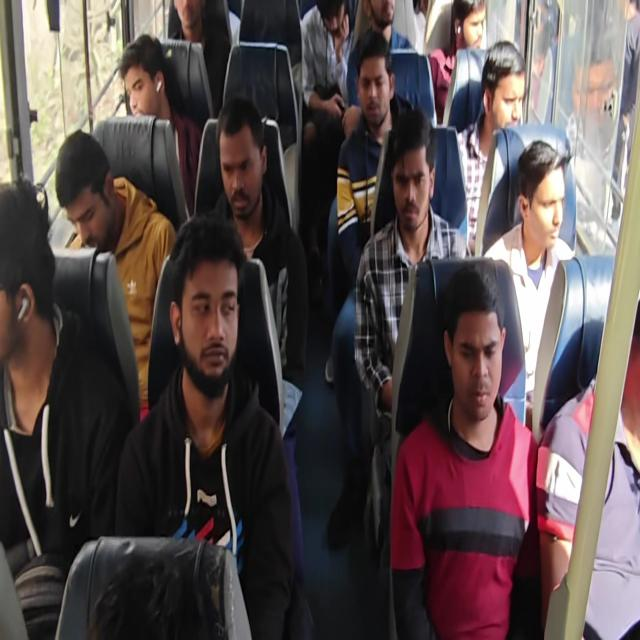person: (0, 175, 44, 352), (444, 292, 503, 414), (184, 252, 233, 397), (206, 115, 266, 217), (64, 134, 110, 243), (116, 49, 170, 123), (394, 144, 435, 233), (486, 55, 524, 151), (355, 47, 394, 131), (527, 158, 563, 248), (449, 0, 486, 58), (316, 0, 350, 47), (365, 0, 401, 44), (164, 0, 211, 33)
